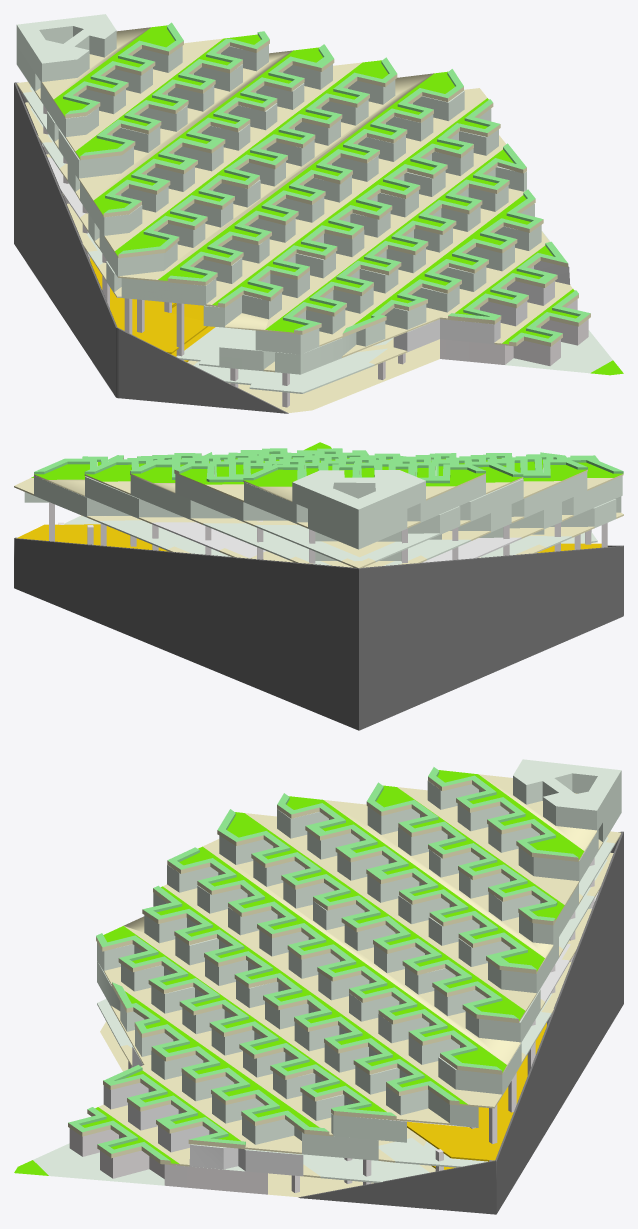
The model's file is MOUNTAINDWELLING.obj.
The picture shows the model from 3 angles, top to bottom: view 1: azimuth 30°, elevation 25°; view 2: azimuth 150°, elevation 25°; view 3: azimuth 270°, elevation 25°; orthographic projection. The views are drawn at different scales.
Size of the model in its own units: 97.66 by 42.15 by 99.35.
